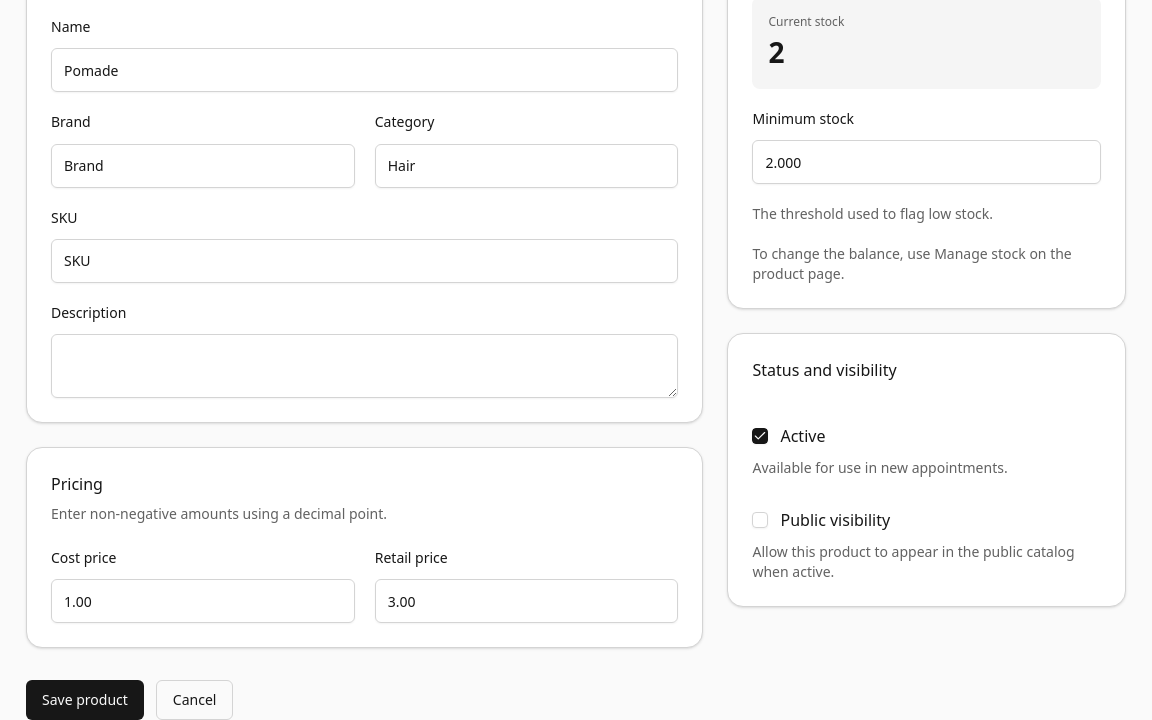
pending product save disables editing and cancellation
(page scrolled)
Expected: the field labelled "Name" is shown, [51,48,678,92]
Click the button "Save product". click: (85, 700)
box: [26,680,144,719]
(page scrolled)
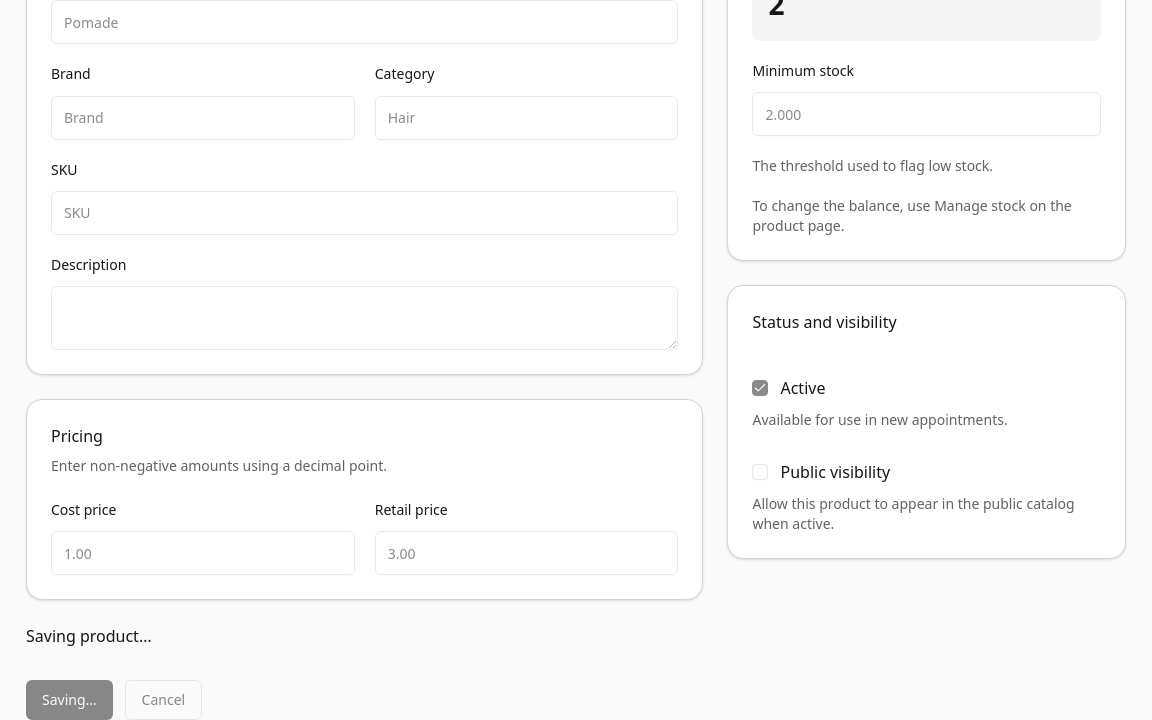
Result: the button "Saving…" is shown at [26,680,113,719]
Result: the 1st checkbox named "Active" is disabled at [752,380,768,396]
Result: the button "Cancel" is disabled at [125,680,202,719]
